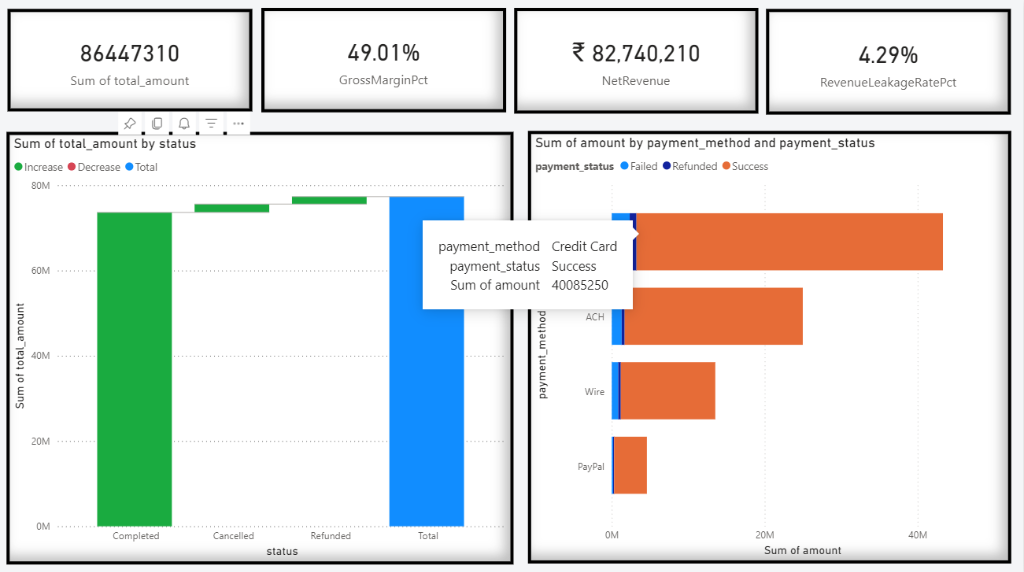

The page's visual inventory and layout, read from the dashboard file:
{"tool":"powerbi","page":{"name":"Finance","canvas":[1280,720],"ordinal":1},"visuals":[{"type":"waterfallChart","fields":{"Category":["orders.status"],"Y":["Sum(orders.total_amount)"]},"box":[11.4,164.3,632.9,540],"z":0},{"type":"barChart","fields":{"Series":["payments.payment_status"],"Category":["payments.payment_method"],"Y":["Sum(payments.amount)"]},"box":[661.4,162.9,602.9,540],"z":1000},{"type":"card","fields":{"Values":["Sum(orders.total_amount)"]},"box":[11.8,10.9,305.5,128.2],"z":2000},{"type":"card","fields":{"Values":["_Measures (2).NetRevenue"]},"box":[644.4,10,304.4,132.2],"z":3000},{"type":"card","fields":{"Values":["_Measures (2).GrossMarginPct"]},"box":[328.9,10,305.6,130],"z":4000},{"type":"card","fields":{"Values":["_Measures (2).RevenueLeakageRatePct"]},"box":[958.9,11.1,305.6,132.2],"z":5000}]}

Visuals, with their boxes in screenshot pixels (x1, y1, x2, y2), scaled from the page's 1280x720 canvas onto the 1024x572 screenshot:
waterfallChart - orders.status x Sum(orders.total_amount): <bbox>9, 131, 515, 560</bbox>
barChart - payments.payment_status x payments.payment_method: <bbox>529, 129, 1011, 558</bbox>
card - Sum(orders.total_amount): <bbox>9, 9, 254, 111</bbox>
card - _Measures (2).NetRevenue: <bbox>516, 8, 759, 113</bbox>
card - _Measures (2).GrossMarginPct: <bbox>263, 8, 508, 111</bbox>
card - _Measures (2).RevenueLeakageRatePct: <bbox>767, 9, 1012, 114</bbox>
